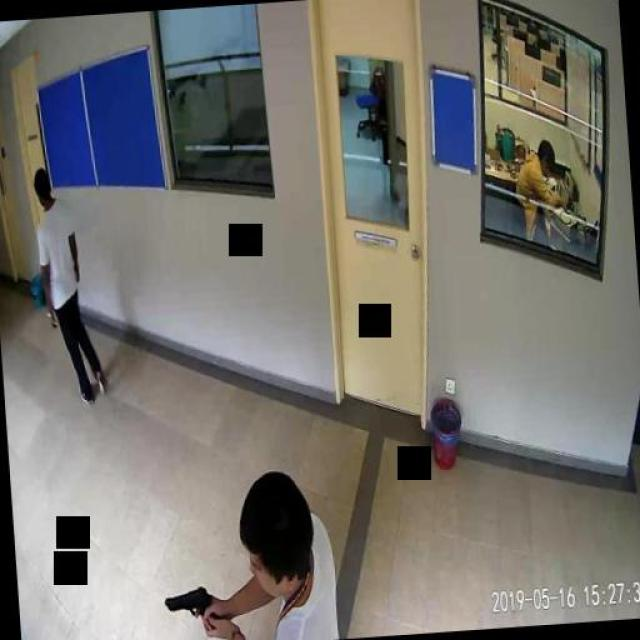gun: (164, 585, 218, 631)
